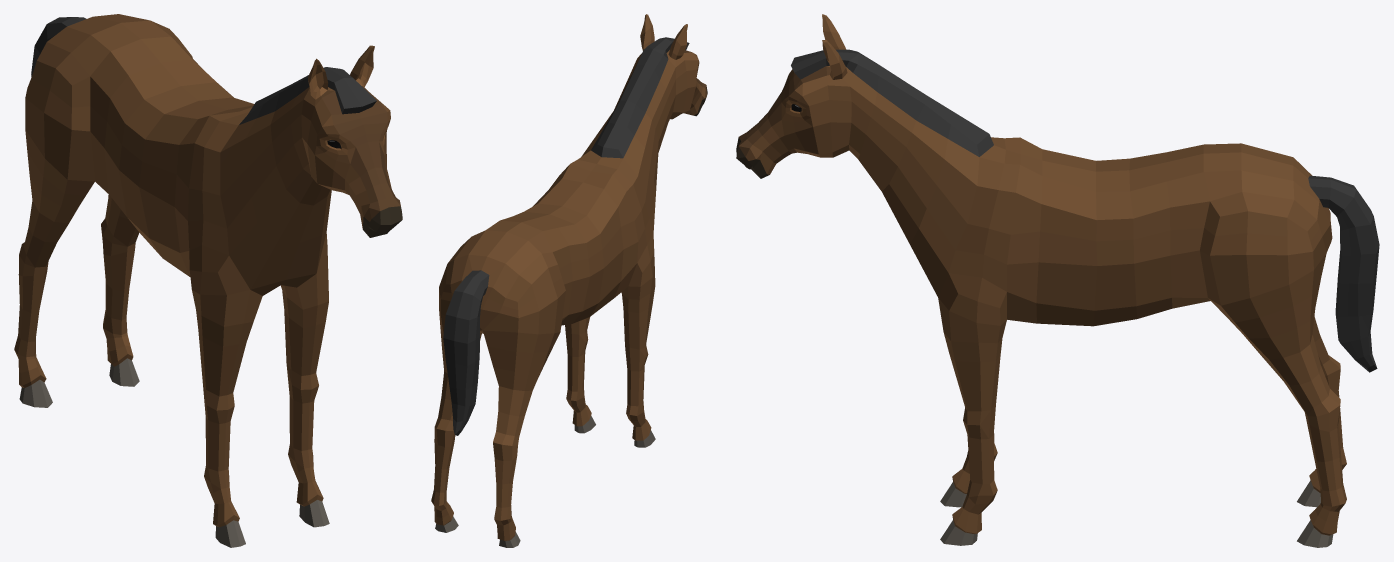
The model's file is sagittarius.gltf.
3 views of the same model, side by side, from view 1: azimuth 30°, elevation 25°; view 2: azimuth 150°, elevation 25°; view 3: azimuth 270°, elevation 25° (orthographic). The views are drawn at different scales.
Parts seen in each view (by area): view 1: Horse; view 2: Horse; view 3: Horse.
Boxes of the visible parts, x1,y1,x2,y2 form: Horse: (14,14,402,547); Horse: (431,14,707,547); Horse: (736,14,1379,547).
Size of the model in its own units: 1.41 by 4.82 by 5.68.
